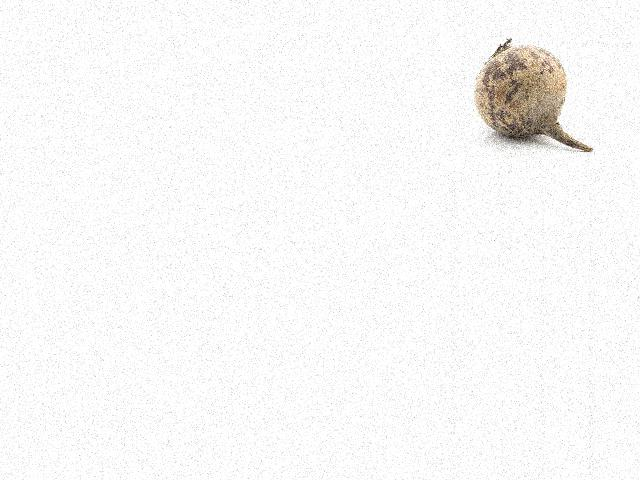beet: (473, 39, 591, 151)
